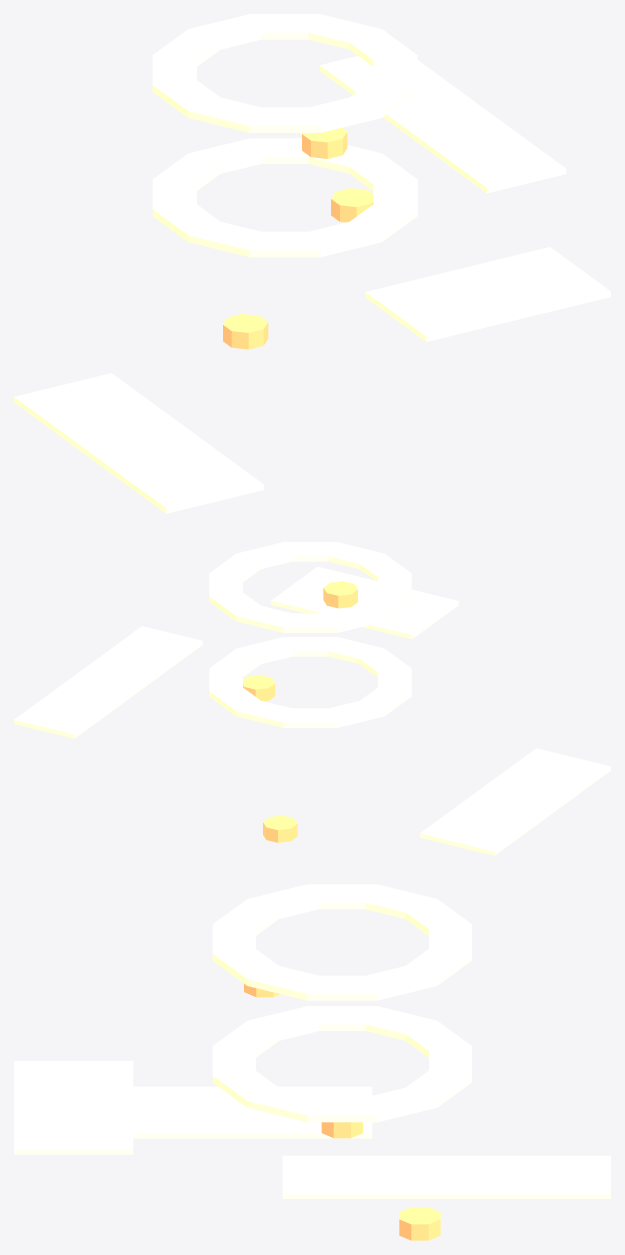
File: hall_ov_overhead.glb
3 renders of one model, top to bottom at view 1: azimuth 30°, elevation 25°; view 2: azimuth 150°, elevation 25°; view 3: azimuth 270°, elevation 25°, orthographic. The views are drawn at different scales.
Visible parts, largest first — view 1: hall_ov_overhead; view 2: hall_ov_overhead; view 3: hall_ov_overhead.
Boxes of the visible parts, box(x1,y1,x2,y2) form: hall_ov_overhead: box(14, 14, 610, 513); hall_ov_overhead: box(14, 542, 610, 855); hall_ov_overhead: box(14, 884, 610, 1240).
Size of the model in its own units: 38.4 by 21.65 by 40.
